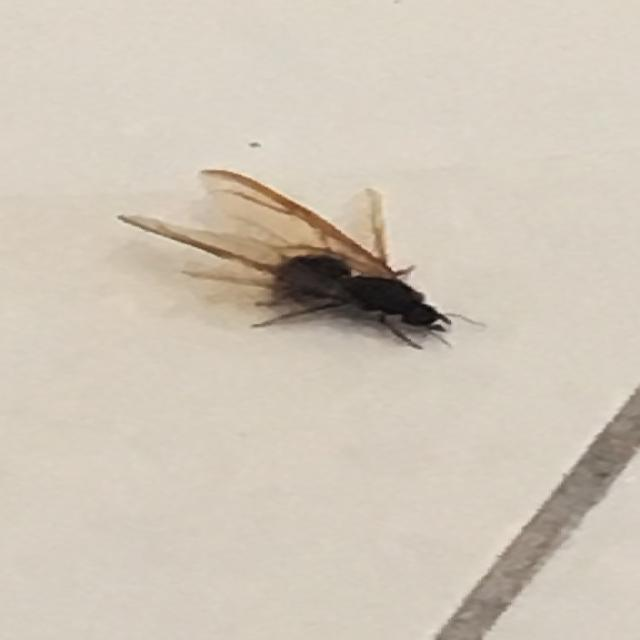Alive-Female-Alate: (116, 168, 488, 350)
